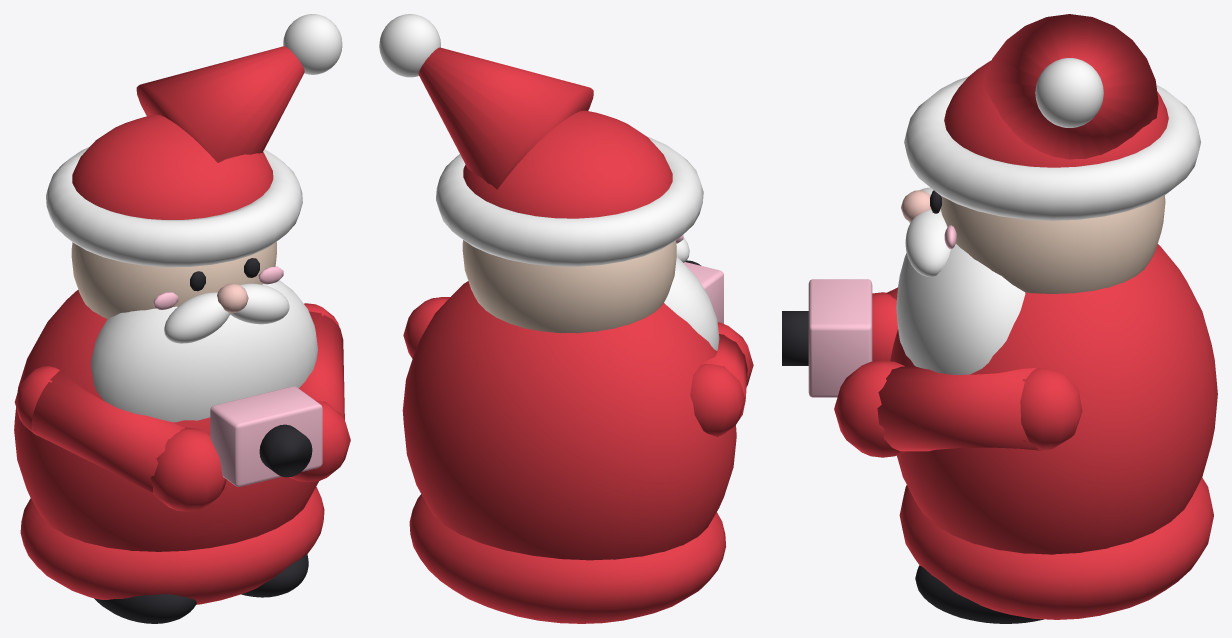
The model's file is camera.glb.
3 views of the same model, side by side, from view 1: azimuth 30°, elevation 25°; view 2: azimuth 150°, elevation 25°; view 3: azimuth 270°, elevation 25° (orthographic). The views are drawn at different scales.
Parts seen in each view (by area): view 1: camera_red, camera_white, camera_pink, camera_skin, camera_black, camera_nose; view 2: camera_red, camera_white, camera_skin, camera_pink; view 3: camera_red, camera_white, camera_skin, camera_pink, camera_black, camera_nose.
Boxes of the visible parts, x1,y1,x2,y2 form: camera_red: [14, 46, 350, 604]; camera_white: [46, 14, 342, 422]; camera_pink: [153, 266, 322, 486]; camera_skin: [71, 242, 276, 318]; camera_black: [94, 258, 312, 623]; camera_nose: [217, 283, 248, 313]; camera_red: [402, 47, 753, 623]; camera_white: [379, 14, 719, 350]; camera_skin: [462, 240, 676, 333]; camera_pink: [676, 235, 723, 323]; camera_red: [834, 14, 1217, 619]; camera_white: [896, 58, 1200, 374]; camera_skin: [940, 195, 1165, 293]; camera_pink: [808, 225, 956, 397]; camera_black: [782, 190, 1043, 623]; camera_nose: [901, 190, 931, 222].
Bounding box in the file's own units: 2.08 × 3.16 × 2.05.
